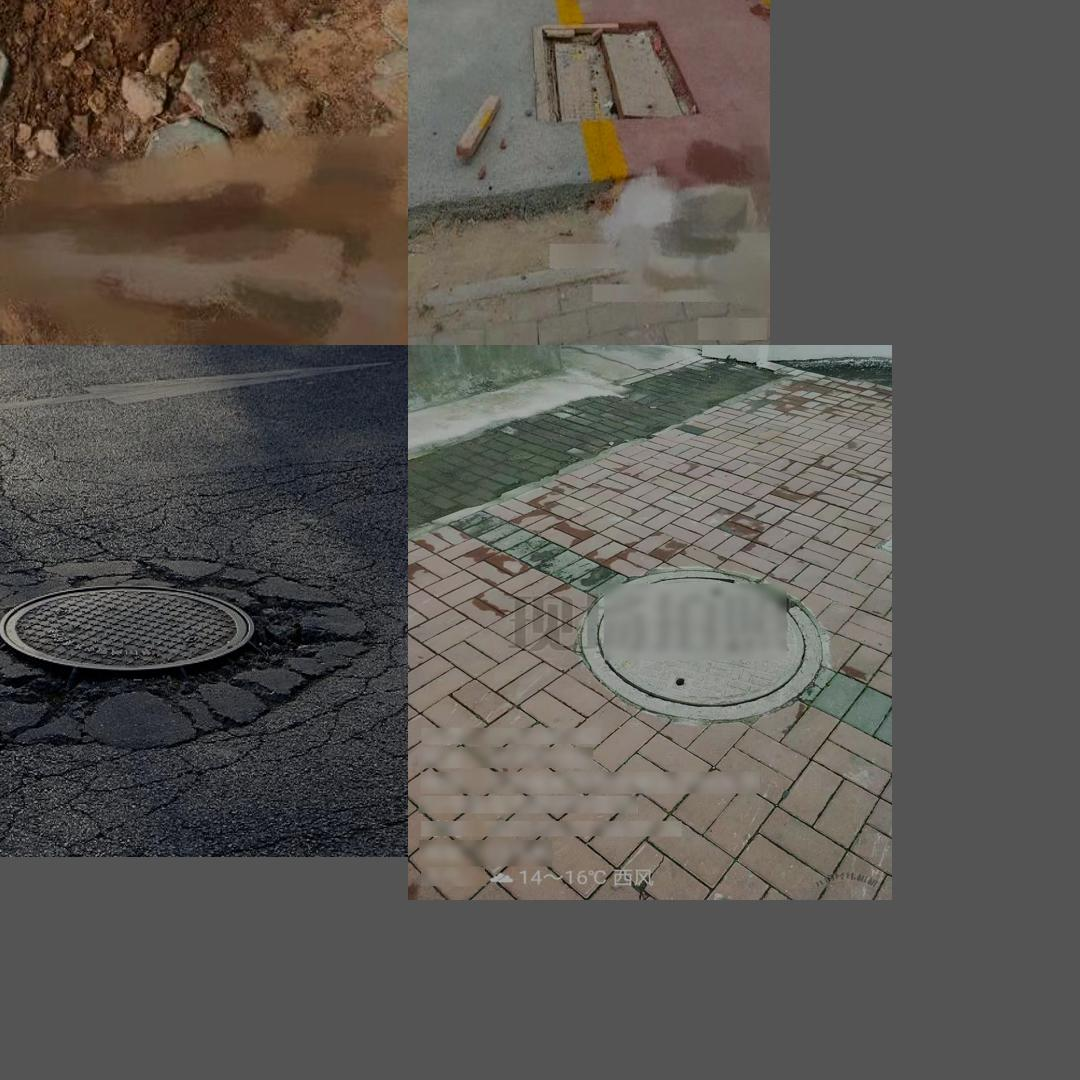circle: (0, 534, 344, 771), (576, 570, 826, 725), (533, 22, 692, 127), (0, 0, 270, 41)
